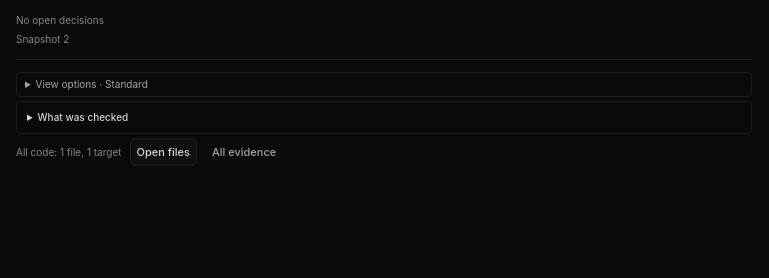
Test: Behavior changes in the Brief › states changed-but-never-executed only when execution ran
This screenshot has width=769, height=278.
Click the heading "What was checked": {"x": 83, "y": 117} x1=38 y1=111 x2=128 y2=123
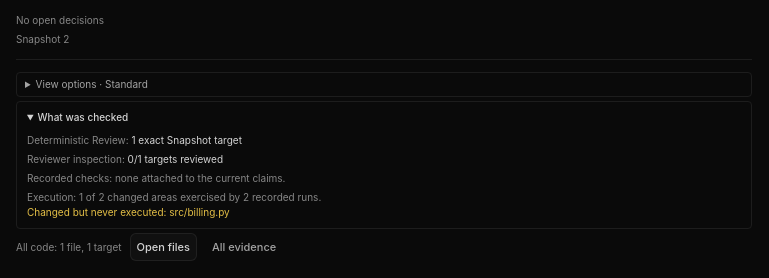
Expected: the element with test id "execution-coverage" shows "1 of 2 changed areas exercised by 2 recorded runs", x1=27 y1=191 x2=321 y2=203
Expected: the element with test id "execution-coverage" shows "Changed but never executed: src/billing.py", x1=27 y1=206 x2=230 y2=218
